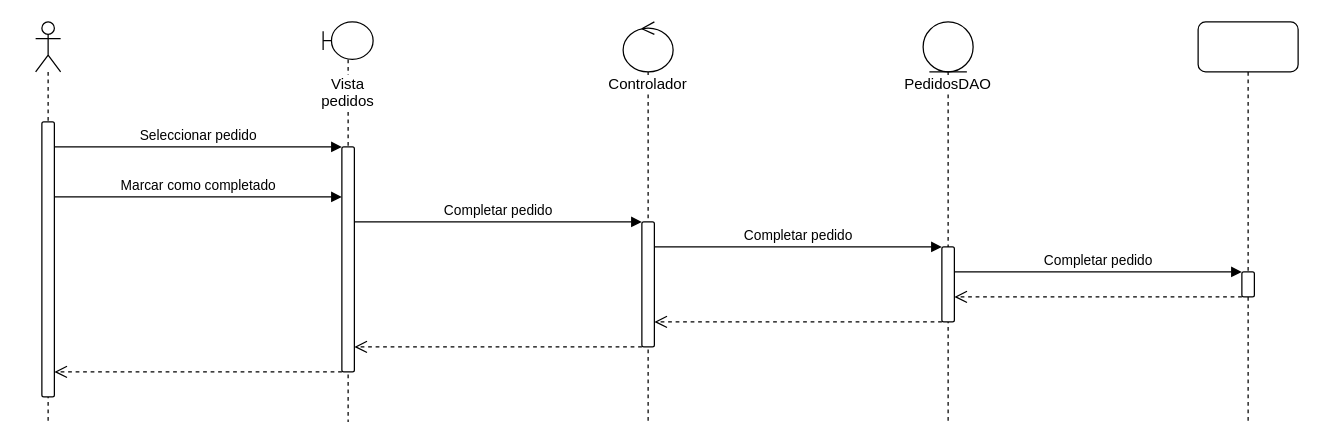
Image size: 1320x444. Some labels were removed from this diagram. Here are the shapes that lost their labels. From the top down, the box of each, then its label:
(34, 21, 61, 422): Jugador
(1197, 21, 1298, 422): DB
